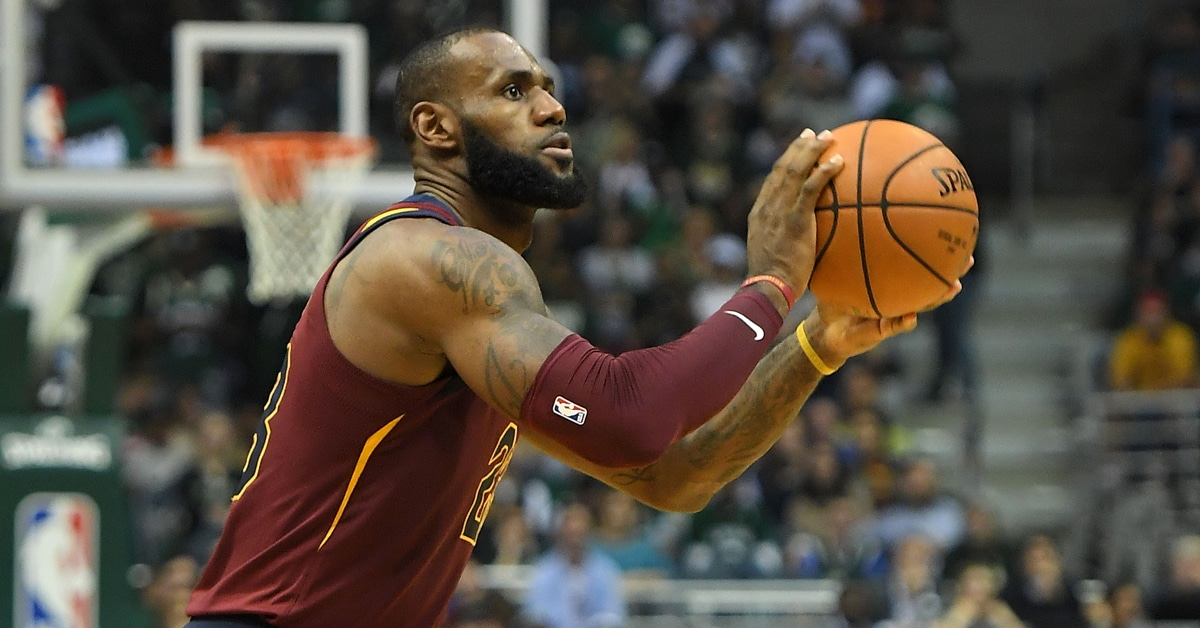Basketball: (808, 111, 987, 318)
